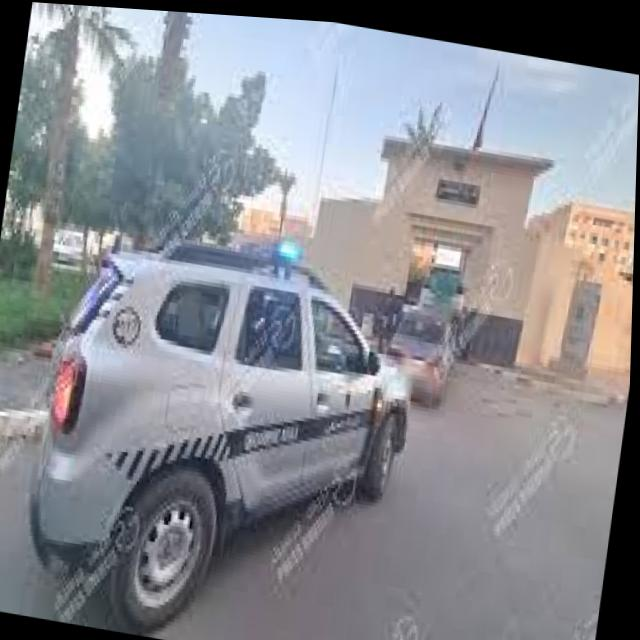gendarme car: (14, 194, 438, 640)
